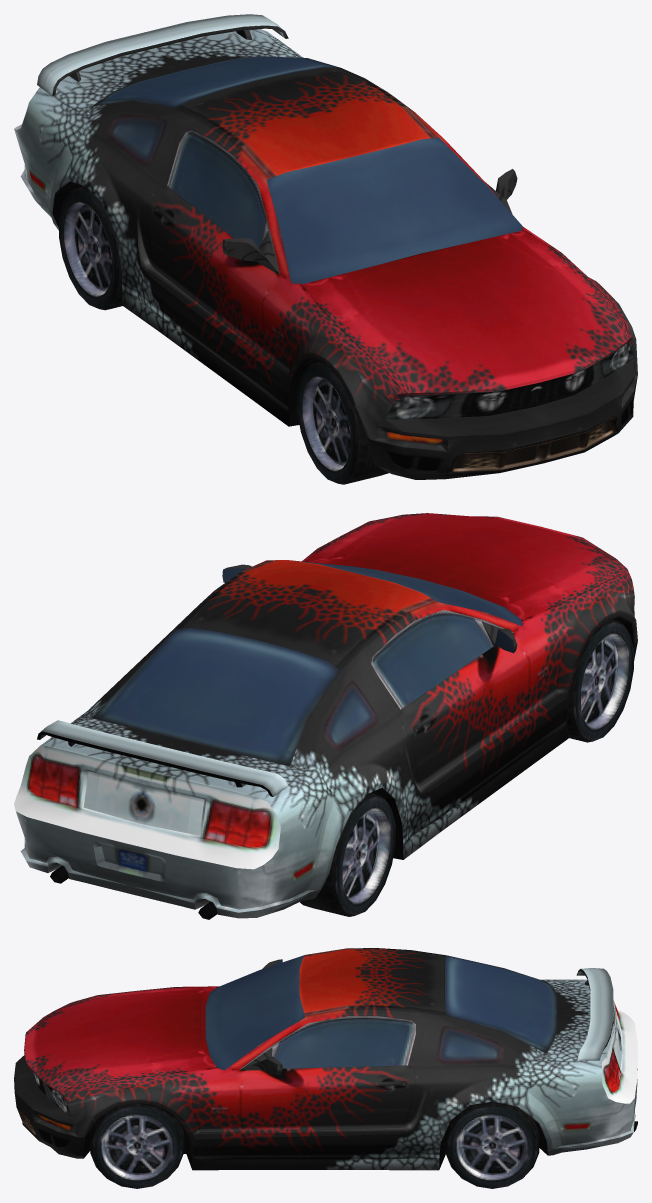
Rendered from Ford Mustang Red.fbx.
3 renders of one model, top to bottom at view 1: azimuth 30°, elevation 25°; view 2: azimuth 150°, elevation 25°; view 3: azimuth 270°, elevation 25°, orthographic. The views are drawn at different scales.
Visible parts, largest first — view 1: mustang, FR, RR; view 2: mustang, RR, FR; view 3: mustang, RL, FL.
Part boxes in pixels (x1,y1,x2,y2): mustang: (14,14,637,479); FR: (297,361,388,484); RR: (59,186,122,310); mustang: (14,513,637,919); RR: (300,792,395,916); FR: (567,619,633,742); mustang: (14,948,637,1170); RL: (445,1101,539,1188); FL: (90,1103,183,1188).
Bounding box in the file's own units: 180 × 133 × 447.
Materials: 10 (10 with a texture image).
